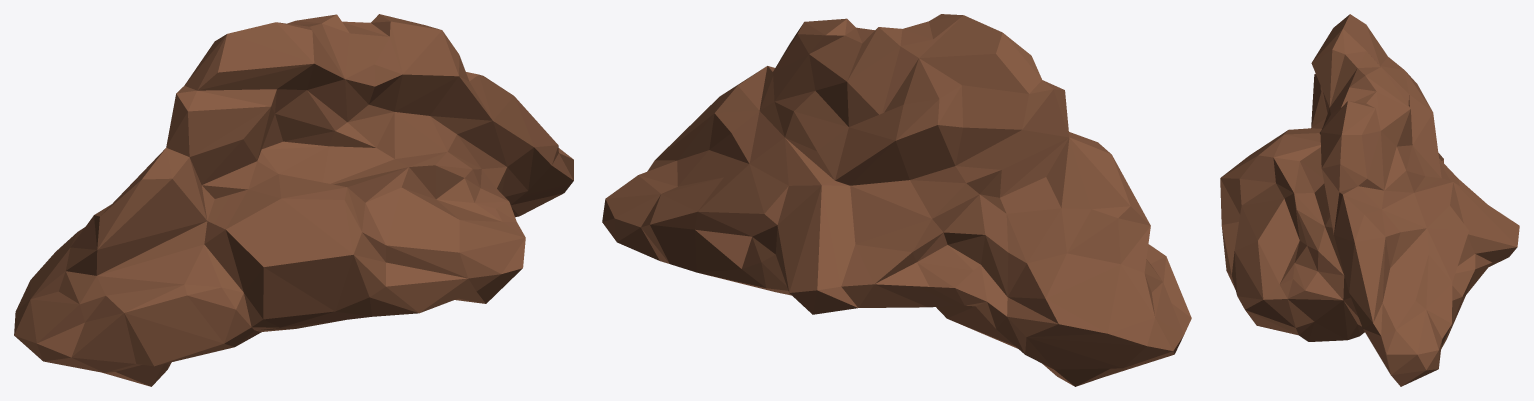
Rendered from rock_a.glb.
3 renders of one model, left to right at view 1: azimuth 30°, elevation 25°; view 2: azimuth 150°, elevation 25°; view 3: azimuth 270°, elevation 25°, orthographic. The views are drawn at different scales.
Visible parts, largest first — view 1: SM_Env_Rock_03; view 2: SM_Env_Rock_03; view 3: SM_Env_Rock_03.
Boxes of the visible parts, <box> form: SM_Env_Rock_03: <box>14,14,573,386</box>; SM_Env_Rock_03: <box>602,14,1191,386</box>; SM_Env_Rock_03: <box>1220,14,1519,386</box>.
Size of the model in its own units: 4.38 by 2.46 by 2.43.
Materials: 1 (1 with a texture image).
